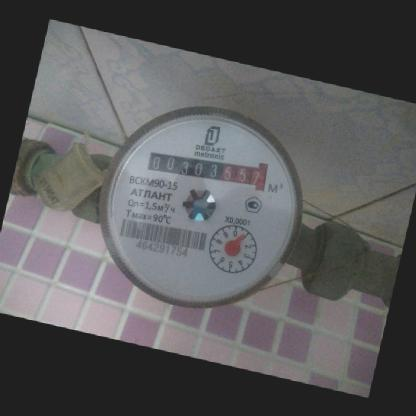digital_screen: (144, 147, 221, 181)
